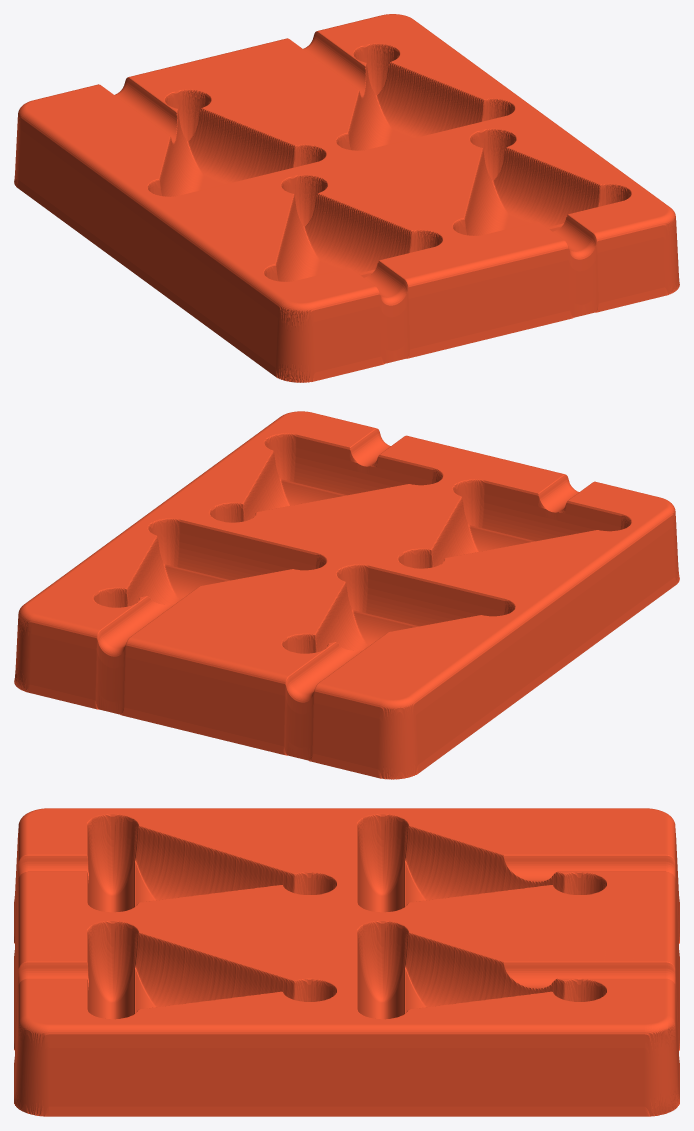
The model's file is mold.glb.
3 views of the same model, one above another, from view 1: azimuth 30°, elevation 25°; view 2: azimuth 150°, elevation 25°; view 3: azimuth 270°, elevation 25° (orthographic). The views are drawn at different scales.
Parts seen in each view (by area): view 1: geometry_0; view 2: geometry_0; view 3: geometry_0.
Boxes of the visible parts, x1,y1,x2,y2 form: geometry_0: [14, 14, 679, 382]; geometry_0: [14, 411, 679, 779]; geometry_0: [14, 808, 679, 1116].
Bounding box in the file's own units: 0.1379 × 0.0245 × 0.171.
